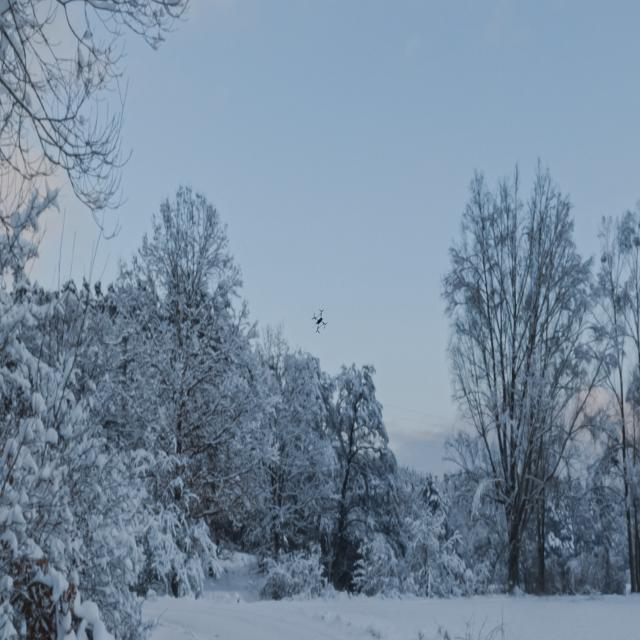drone: (310, 304, 329, 339)
